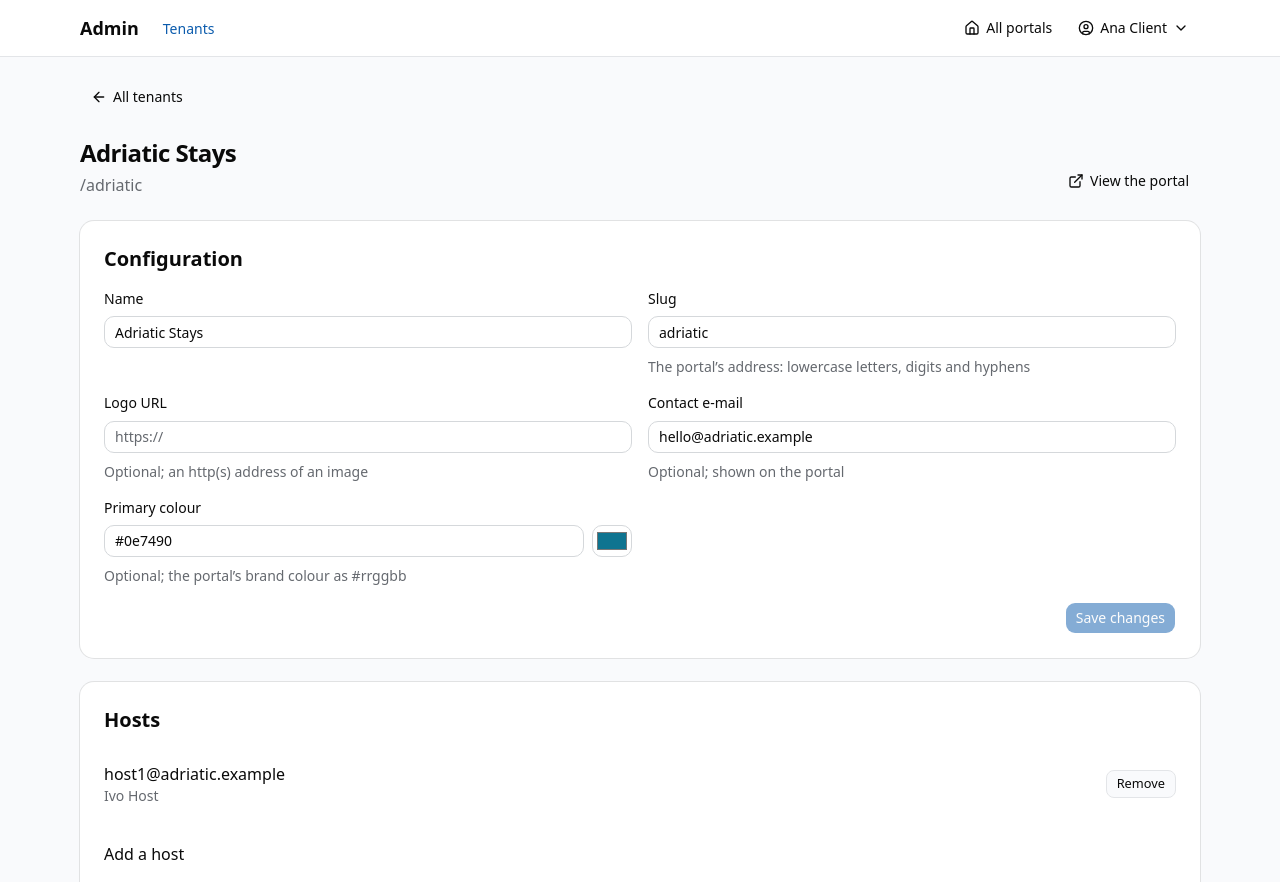
Scenario: AdminTenantPage — configuration › discards the changes and the error of a failed save
Replace the text in the field labelled "Name" with "Adriatic Villas": (368, 332) x1=104 y1=316 x2=632 y2=348
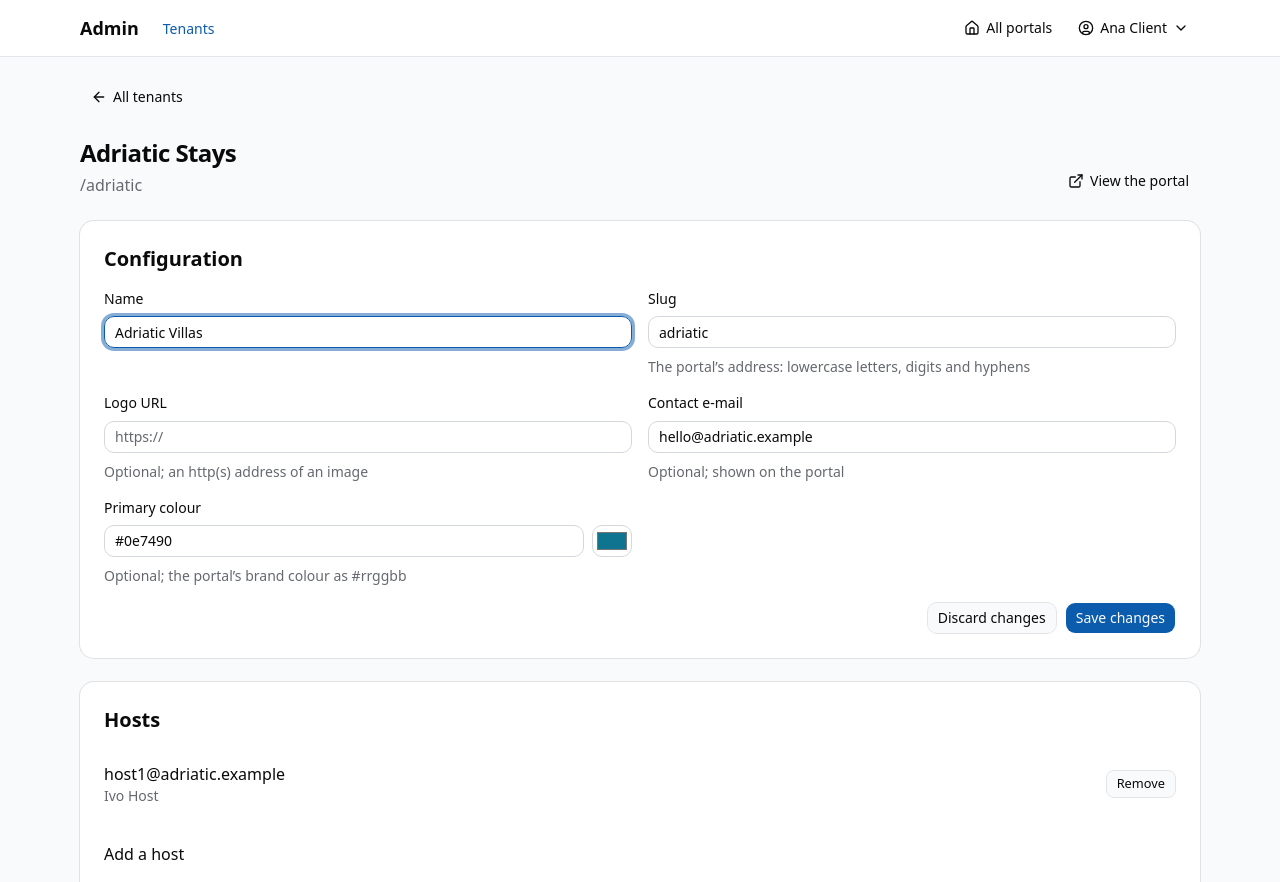
Click the button "Save changes": (1120, 618) x1=1065 y1=602 x2=1176 y2=634
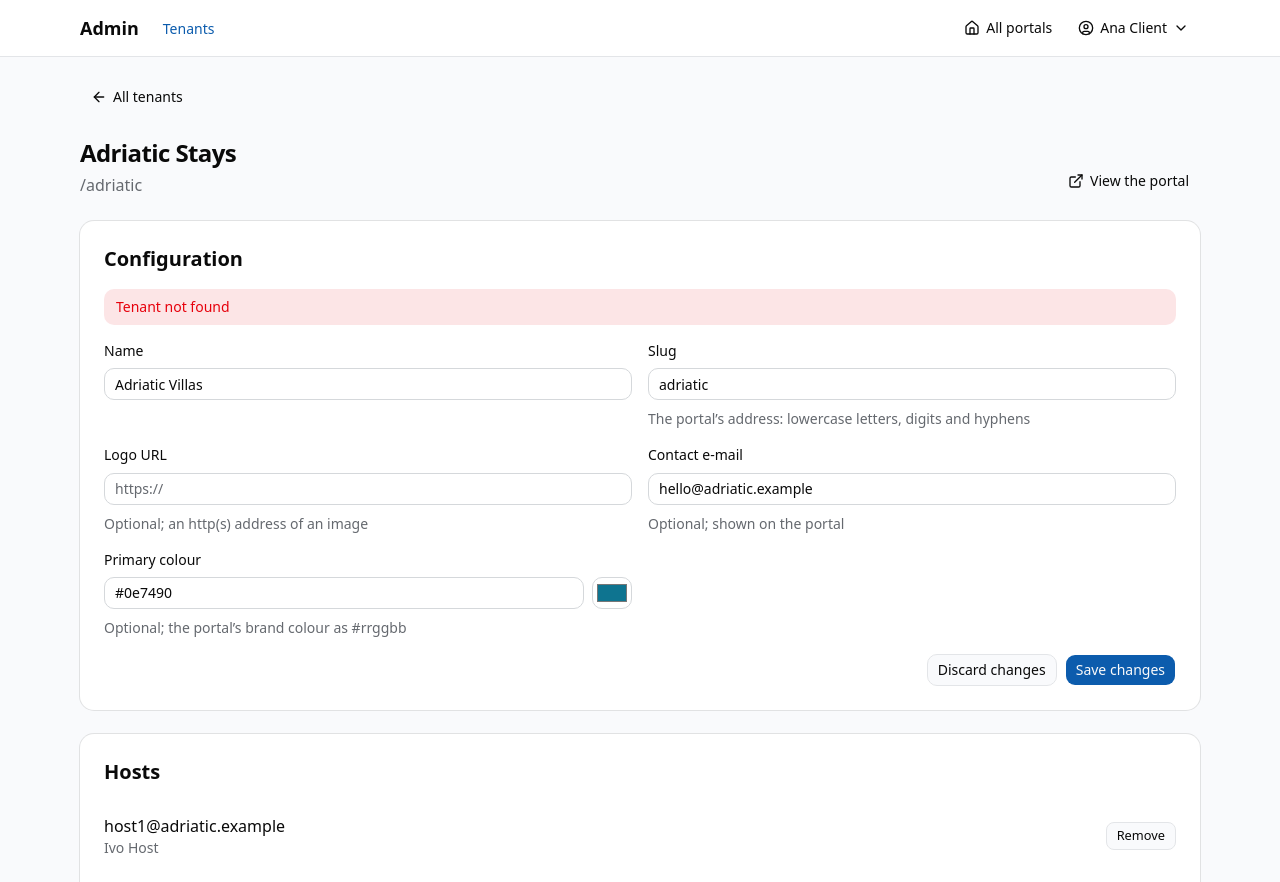
Check: the message reads "Tenant not found", box x1=116 y1=297 x2=230 y2=316
Click the button "Discard changes": (992, 670) x1=927 y1=654 x2=1057 y2=686
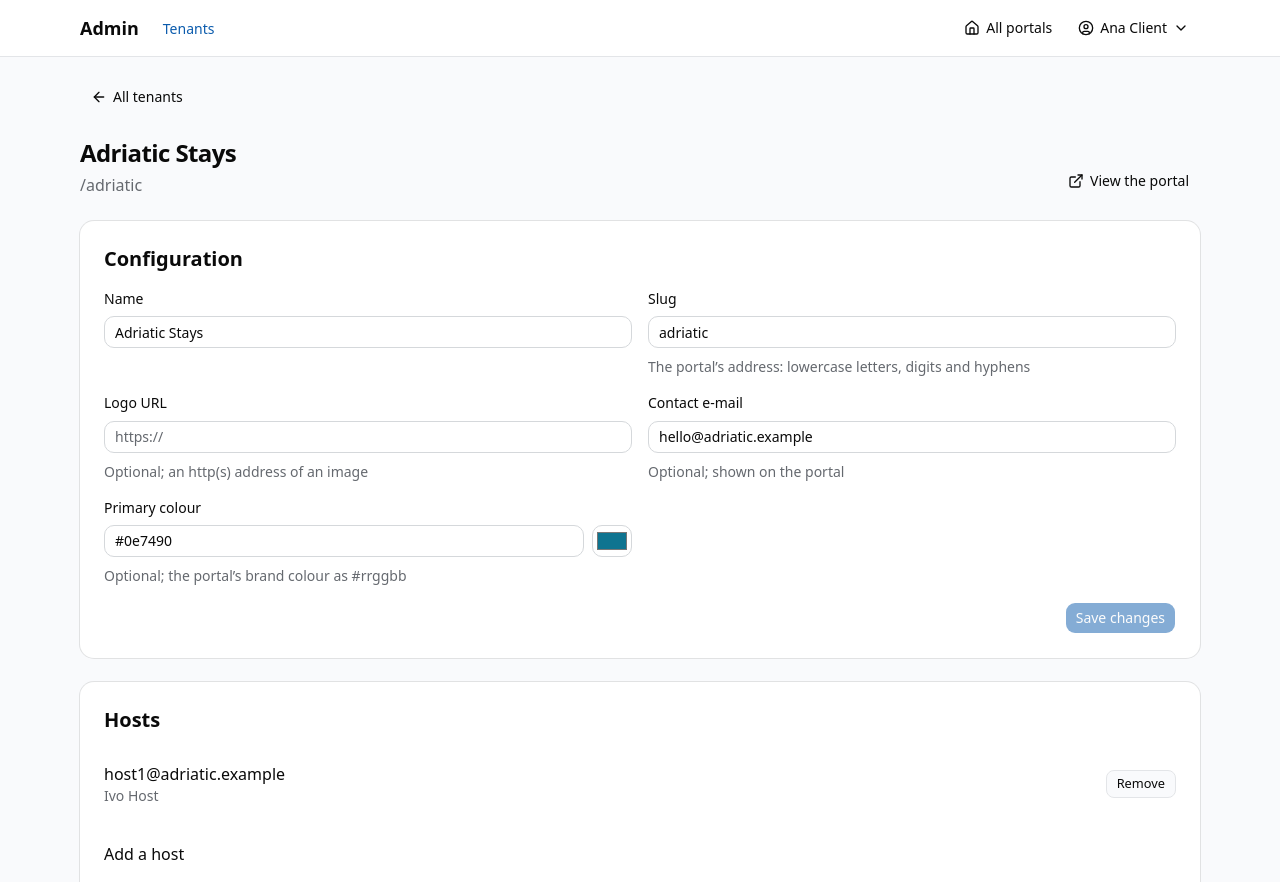
Check: the field labelled "Name" holds "Adriatic Stays", box x1=104 y1=316 x2=632 y2=348
Check: the message "Tenant not found" is gone
Check: the button "Save changes" is disabled, box x1=1065 y1=602 x2=1176 y2=634
